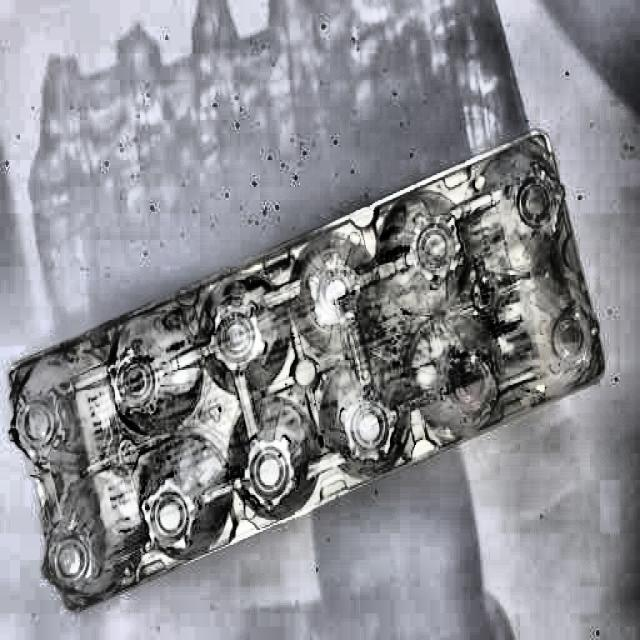plastic: (20, 132, 605, 619)
